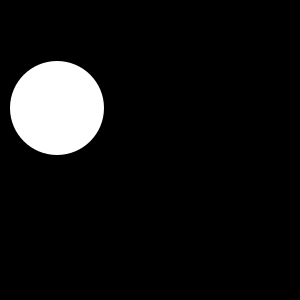rectangle: (10, 61, 104, 155)
